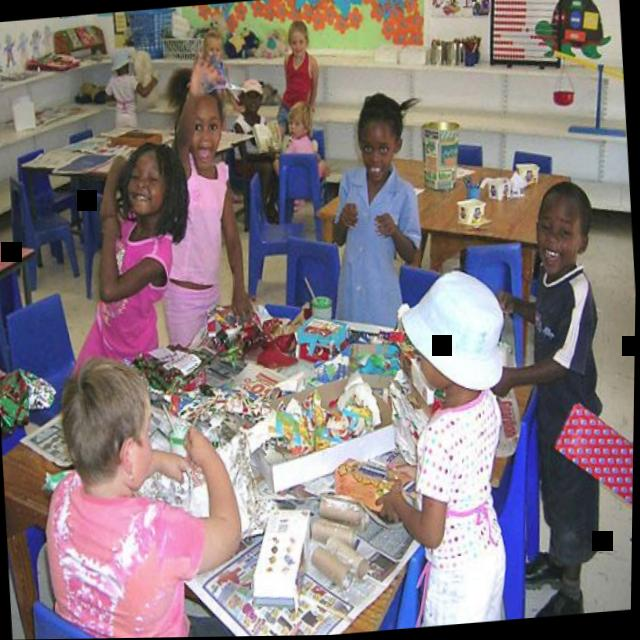Mask: (122, 407, 158, 491)
NO-Mask: (533, 190, 584, 279), (123, 149, 170, 219), (357, 115, 398, 186), (188, 104, 227, 172), (418, 349, 448, 395), (284, 20, 311, 60), (244, 88, 264, 115), (203, 36, 223, 63), (288, 114, 308, 141)
